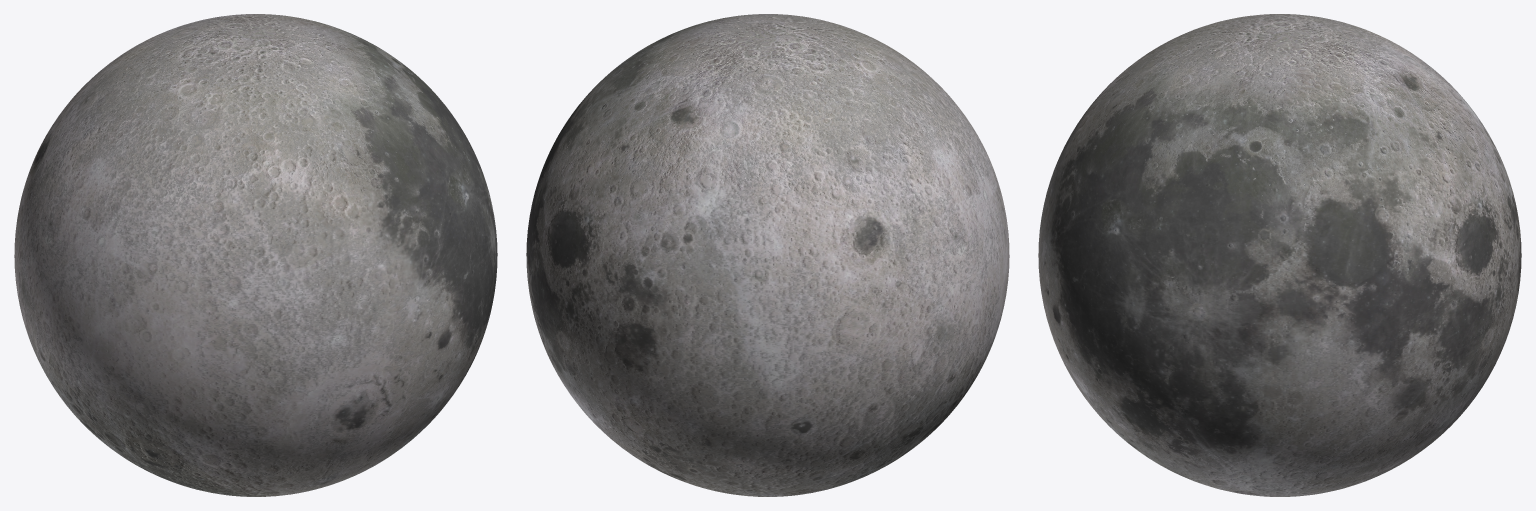
The model's file is moon.glb.
3 views of the same model, side by side, from view 1: azimuth 30°, elevation 25°; view 2: azimuth 150°, elevation 25°; view 3: azimuth 270°, elevation 25° (orthographic).
Visible parts, largest first — view 1: Surface; view 2: Surface; view 3: Surface.
Boxes of the visible parts, left/top/right/bottom form: Surface: left=14, top=14, right=497, bottom=496; Surface: left=526, top=14, right=1009, bottom=496; Surface: left=1038, top=14, right=1521, bottom=496.
Size of the model in its own units: 2 by 2 by 2.
1 material, 1 textured.
